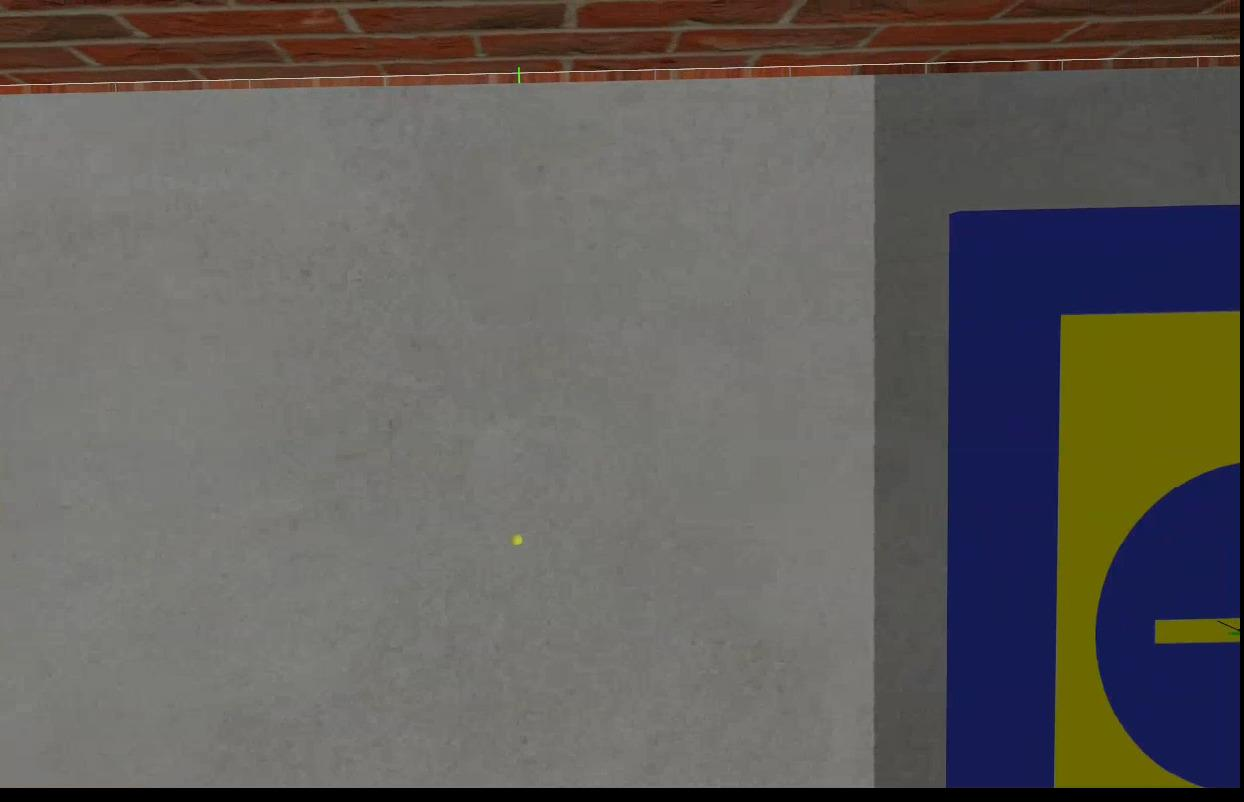large_base: (949, 202, 1241, 789)
